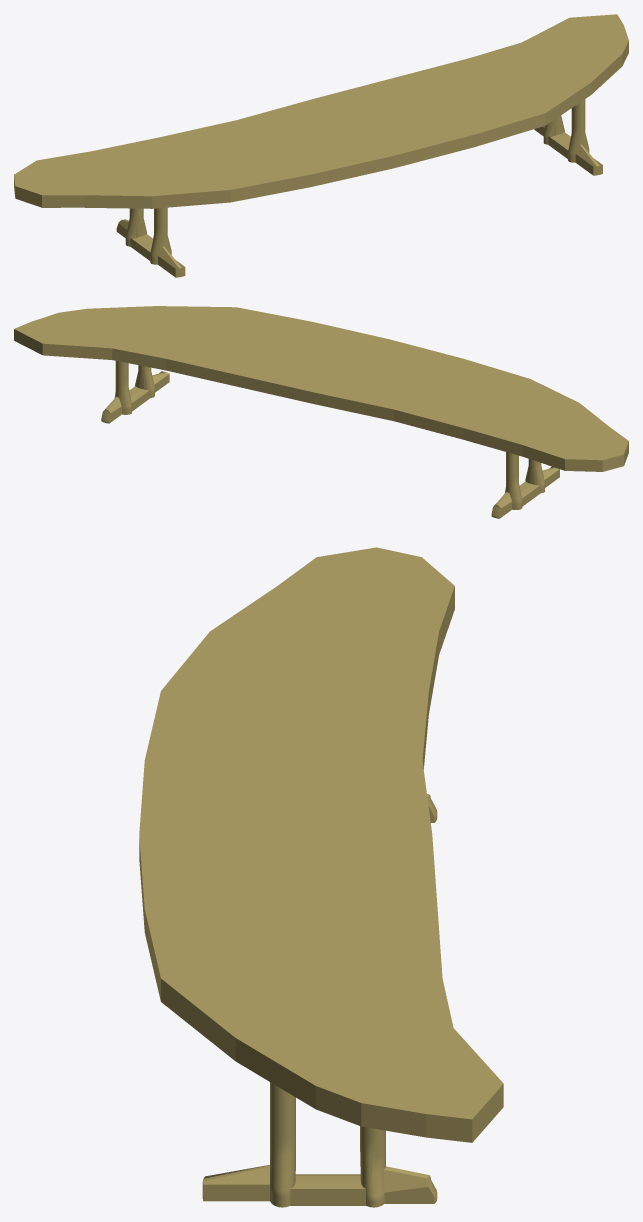
The model's file is Chair_Yellow.fbx.
3 renders of one model, top to bottom at view 1: azimuth 30°, elevation 25°; view 2: azimuth 150°, elevation 25°; view 3: azimuth 270°, elevation 25°, orthographic. The views are drawn at different scales.
Visible parts, largest first — view 1: Chair_Yellow; view 2: Chair_Yellow; view 3: Chair_Yellow.
Boxes of the visible parts, x1=… form: Chair_Yellow: x1=14, y1=14, x2=628, y2=277; Chair_Yellow: x1=14, y1=306, x2=628, y2=518; Chair_Yellow: x1=139, y1=547, x2=503, y2=1207.
Bounding box in the file's own units: 4.32 × 0.5654 × 1.16.
